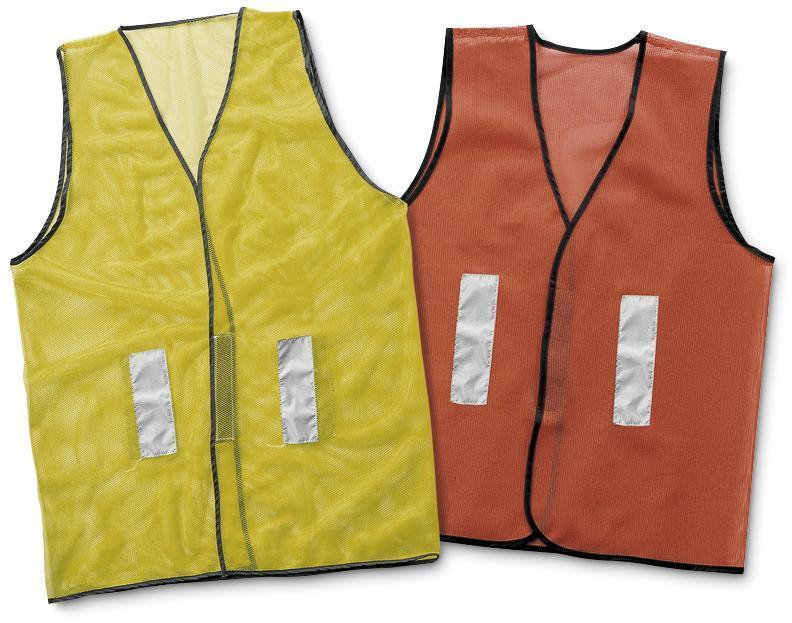vest: (9, 9, 442, 605), (396, 24, 773, 585)
